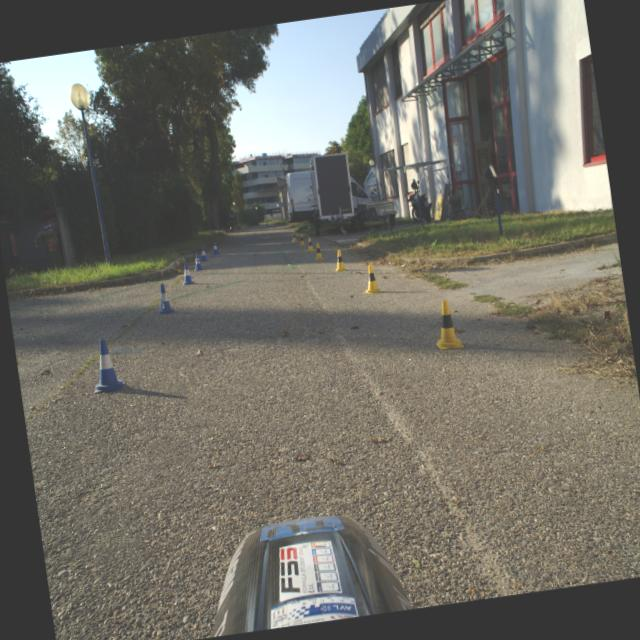blue_cone: (86, 337, 125, 393), (155, 283, 175, 315), (180, 262, 194, 285), (192, 252, 204, 272), (198, 246, 208, 262), (212, 242, 220, 256)
yellow_cone: (430, 298, 465, 351), (361, 263, 383, 295), (332, 248, 348, 272), (313, 242, 324, 261), (306, 237, 315, 252), (298, 233, 306, 246), (290, 231, 298, 243)
